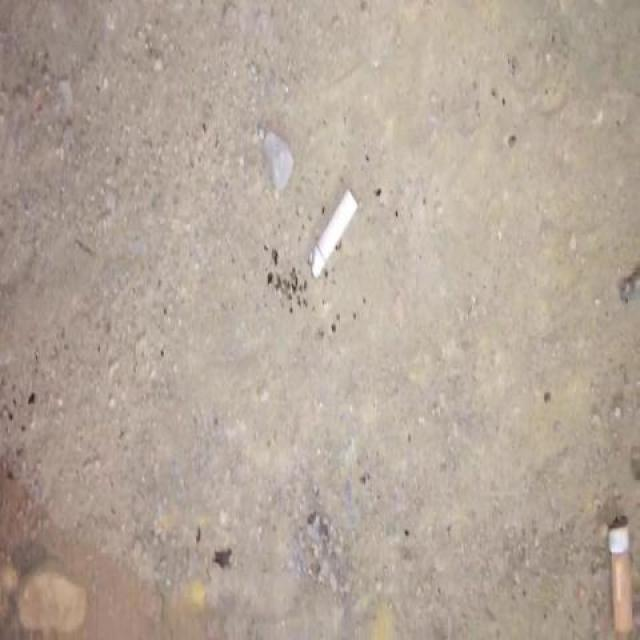non-organic waste: (305, 184, 363, 284), (602, 509, 639, 640)
